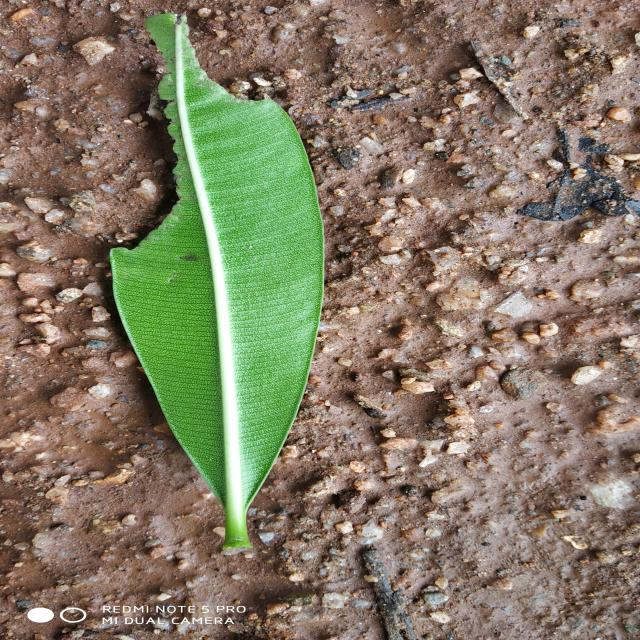ganigale: (111, 14, 324, 548)
